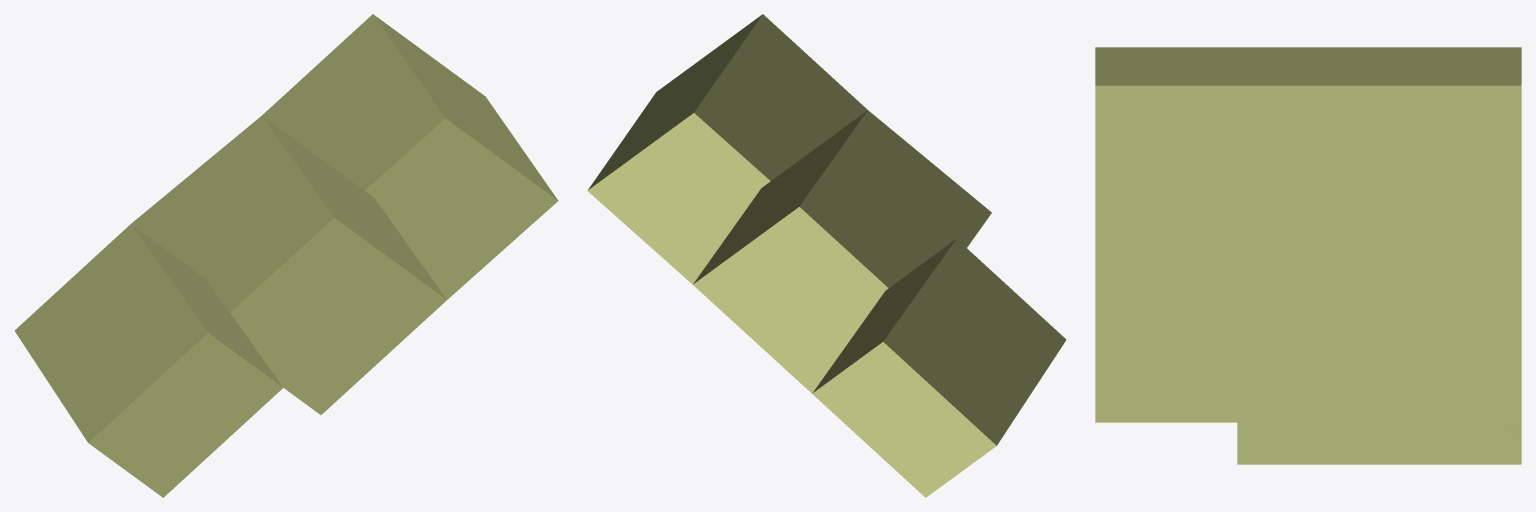
3 renders of one model, left to right at view 1: azimuth 30°, elevation 25°; view 2: azimuth 150°, elevation 25°; view 3: azimuth 270°, elevation 25°, orthographic. The views are drawn at different scales.
Parts seen in each view (by area): view 1: 0_1_1_3_3_1_0_3_0_2; view 2: 0_1_1_3_3_1_0_3_0_2; view 3: 0_1_1_3_3_1_0_3_0_2.
Boxes of the visible parts, x1,y1,x2,y2 form: 0_1_1_3_3_1_0_3_0_2: [14, 14, 558, 497]; 0_1_1_3_3_1_0_3_0_2: [587, 14, 1066, 497]; 0_1_1_3_3_1_0_3_0_2: [1095, 47, 1521, 464].
Bounding box in the file's own units: 19.89 × 15.84 × 9.
